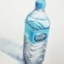plastic: (22, 0, 51, 64)
